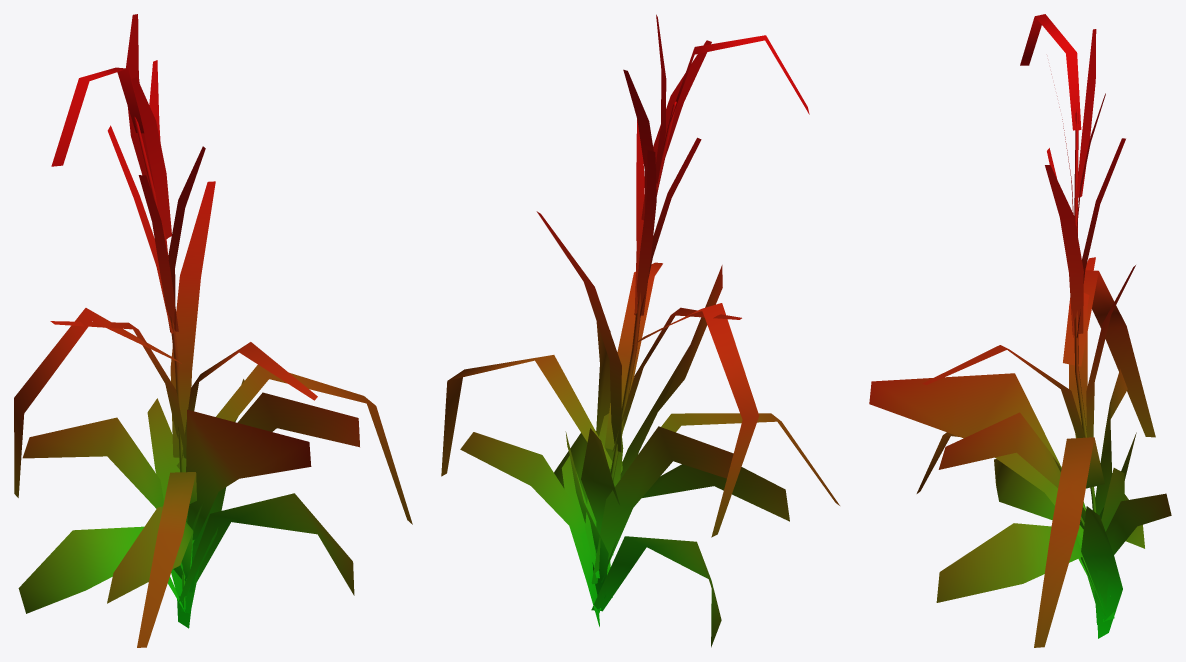
File: Var6_LOD2.fbx
3 views of the same model, side by side, from view 1: azimuth 30°, elevation 25°; view 2: azimuth 150°, elevation 25°; view 3: azimuth 270°, elevation 25° (orthographic). The views are drawn at different scales.
Parts seen in each view (by area): view 1: _fec8_Var6_LOD2; view 2: _fec8_Var6_LOD2; view 3: _fec8_Var6_LOD2.
Part boxes in pixels (x1,y1,x2,y2): _fec8_Var6_LOD2: [14, 14, 412, 647]; _fec8_Var6_LOD2: [441, 14, 839, 647]; _fec8_Var6_LOD2: [869, 14, 1171, 647].
Size of the model in its own units: 26.63 by 44 by 20.61.
